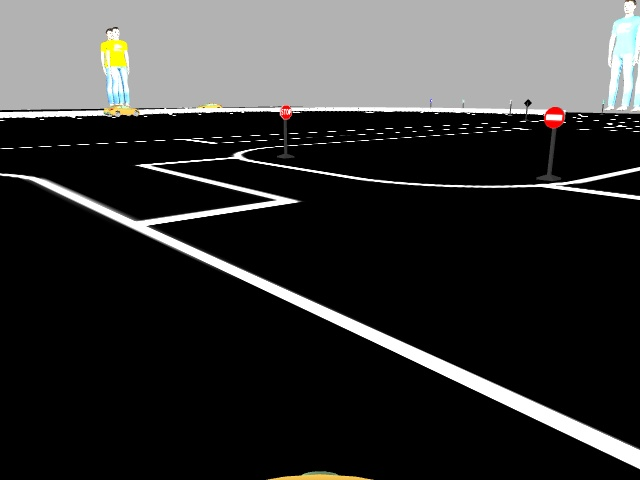NoEntry: (543, 108, 562, 126)
Stop: (277, 102, 292, 120)
